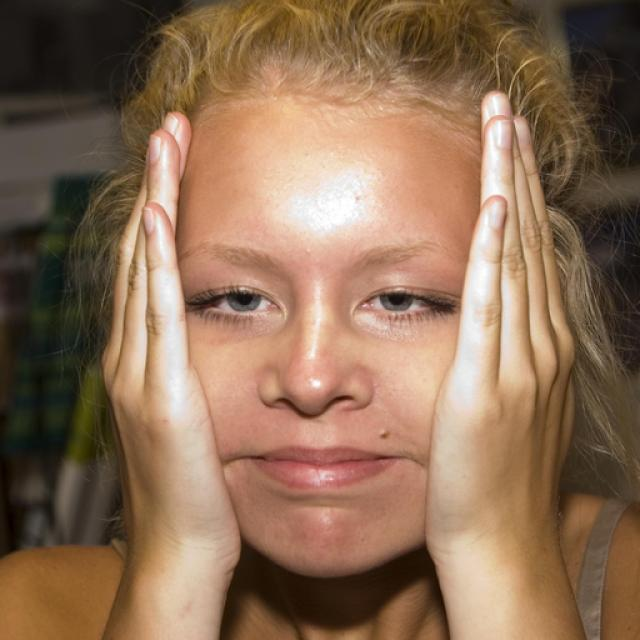neutral: (152, 87, 506, 578)
